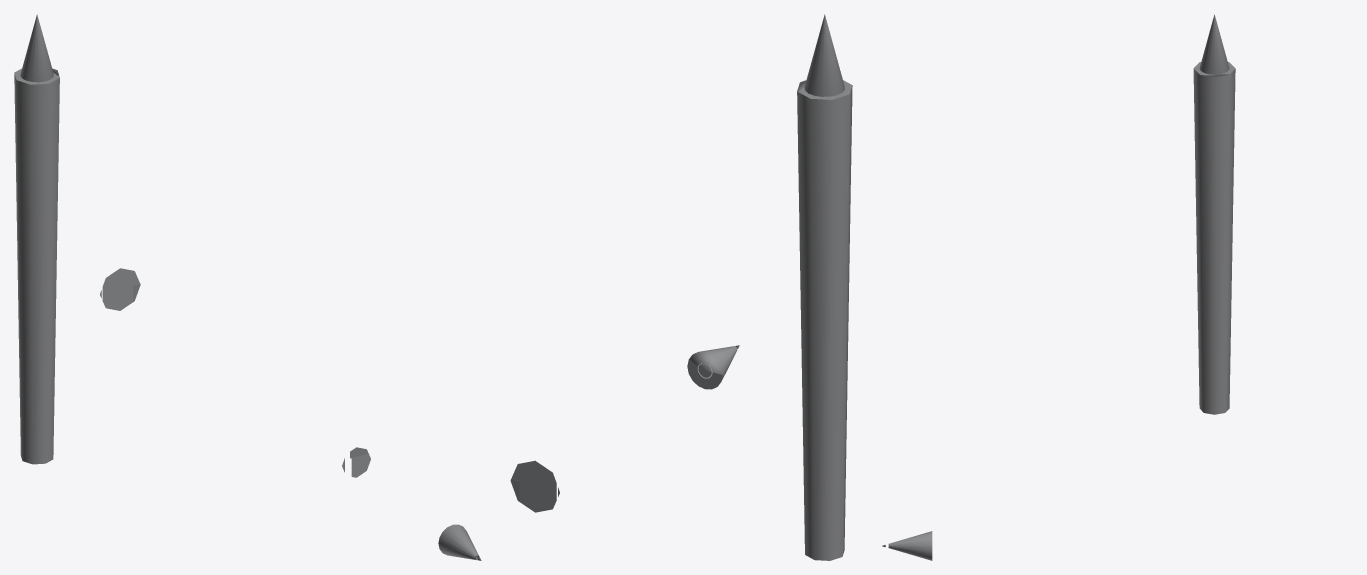
3 renders of one model, left to right at view 1: azimuth 30°, elevation 25°; view 2: azimuth 150°, elevation 25°; view 3: azimuth 270°, elevation 25°, orthographic. The views are drawn at different scales.
Bounding box in the file's own units: 0.092 × 0.1467 × 0.1444.
